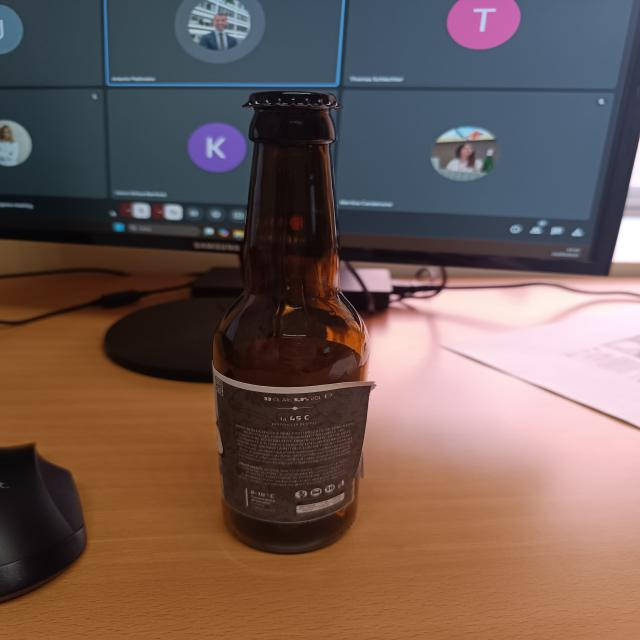Bottle: (208, 88, 368, 558)
Cap: (232, 88, 347, 115)
Label: (211, 374, 360, 524)
